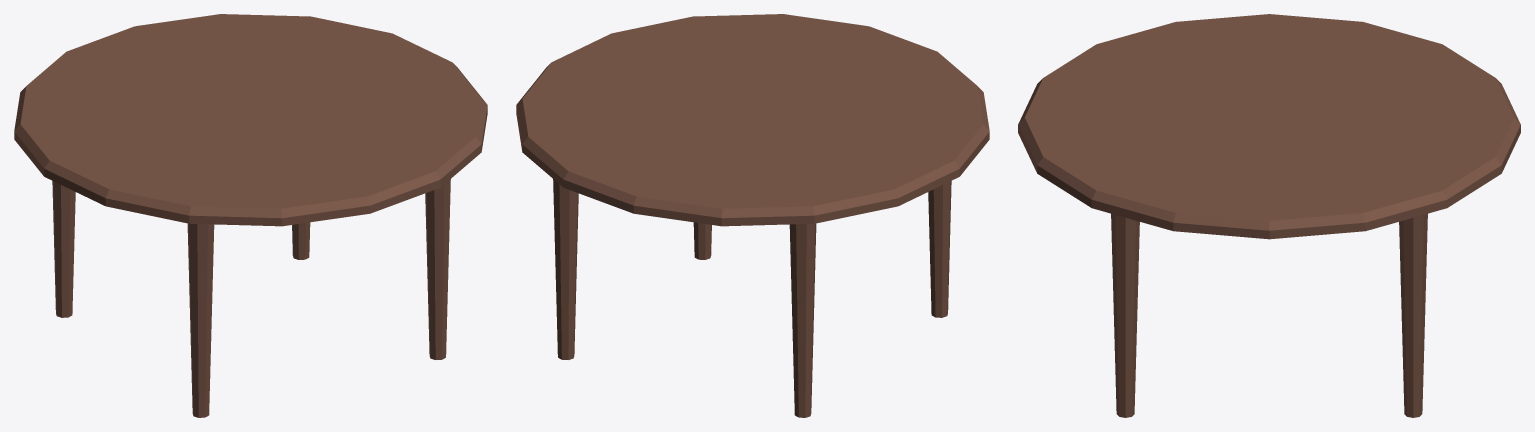
The model's file is CircleTable.glb.
3 views of the same model, side by side, from view 1: azimuth 30°, elevation 25°; view 2: azimuth 150°, elevation 25°; view 3: azimuth 270°, elevation 25° (orthographic). The views are drawn at different scales.
Parts seen in each view (by area): view 1: Table_Small_Circular_01_Circle.009; view 2: Table_Small_Circular_01_Circle.009; view 3: Table_Small_Circular_01_Circle.009.
Boxes of the visible parts, box(x1,y1,x2,y2) form: Table_Small_Circular_01_Circle.009: box(14, 14, 487, 417); Table_Small_Circular_01_Circle.009: box(516, 14, 989, 417); Table_Small_Circular_01_Circle.009: box(1018, 14, 1520, 417).
Bounding box in the file's own units: 15.05 × 7.8 × 15.05.
